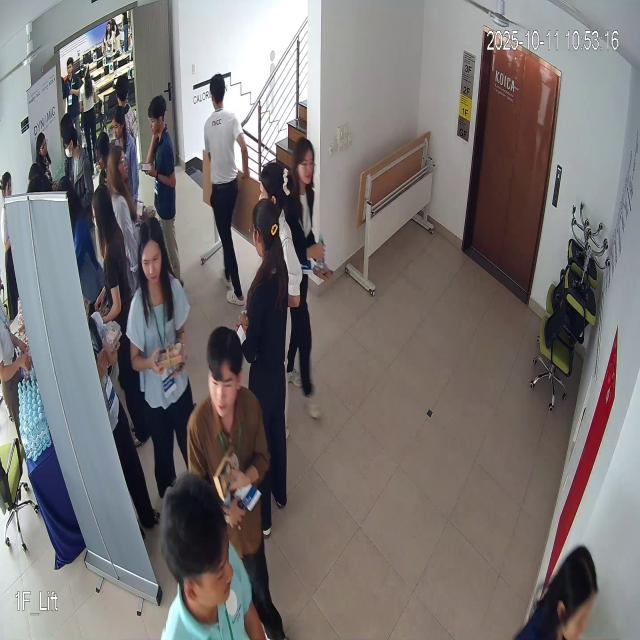face: (207, 319, 246, 417), (132, 207, 170, 292), (291, 134, 321, 200)
